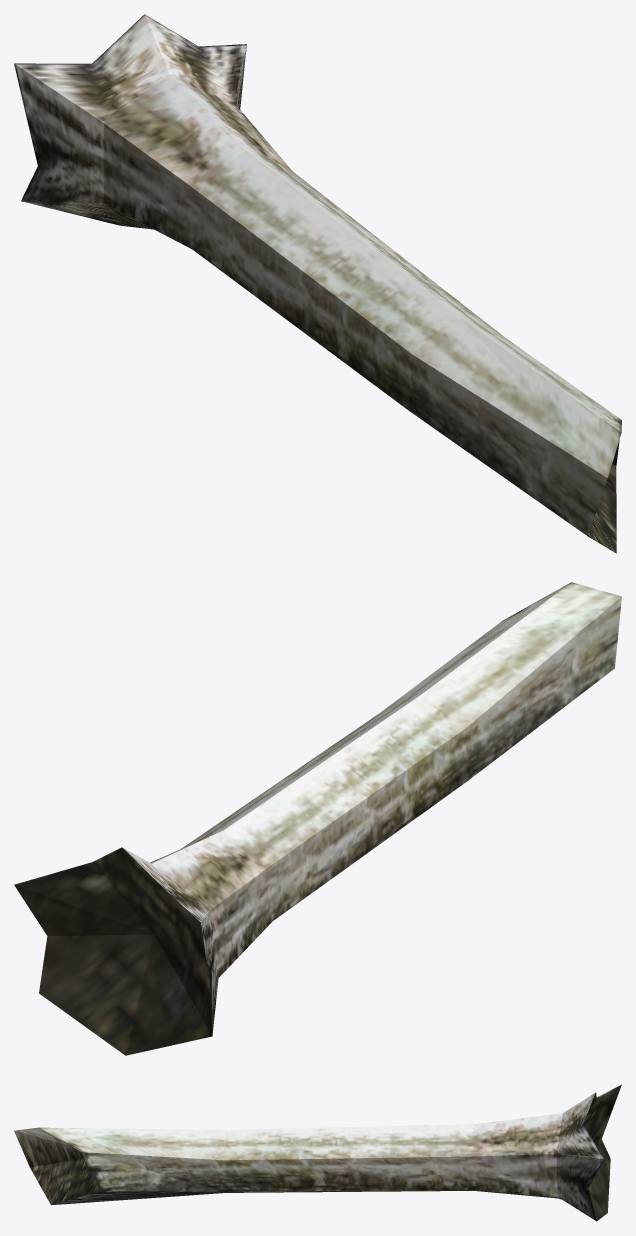
The model's file is Fallen Tree.obj.
3 renders of one model, top to bottom at view 1: azimuth 30°, elevation 25°; view 2: azimuth 150°, elevation 25°; view 3: azimuth 270°, elevation 25°, orthographic. The views are drawn at different scales.
Visible parts, largest first — view 1: MODELS_bin_031:poly000; view 2: MODELS_bin_031:poly000; view 3: MODELS_bin_031:poly000.
Part boxes in pixels (x1=…): MODELS_bin_031:poly000: x1=14, y1=14, x2=621, y2=553; MODELS_bin_031:poly000: x1=14, y1=582, x2=621, y2=1055; MODELS_bin_031:poly000: x1=14, y1=1084, x2=621, y2=1221.
Bounding box in the file's own units: 15.56 × 14.51 × 64.13.
Materials: 1 (1 with a texture image).
